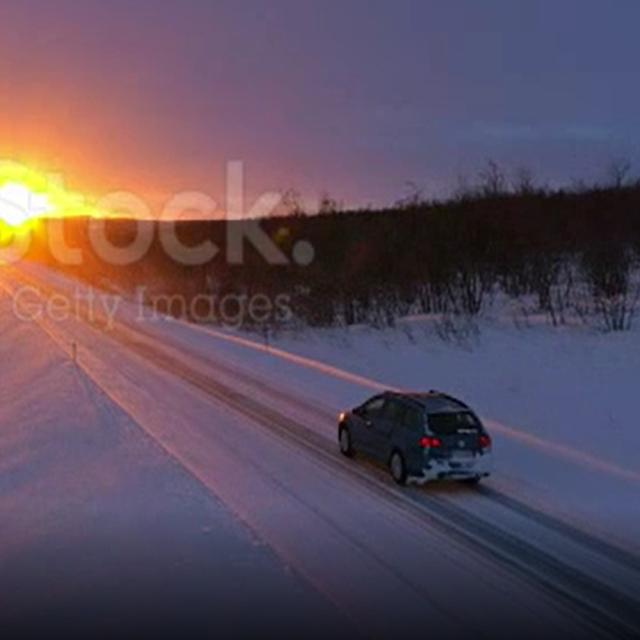car: (332, 381, 496, 496)
